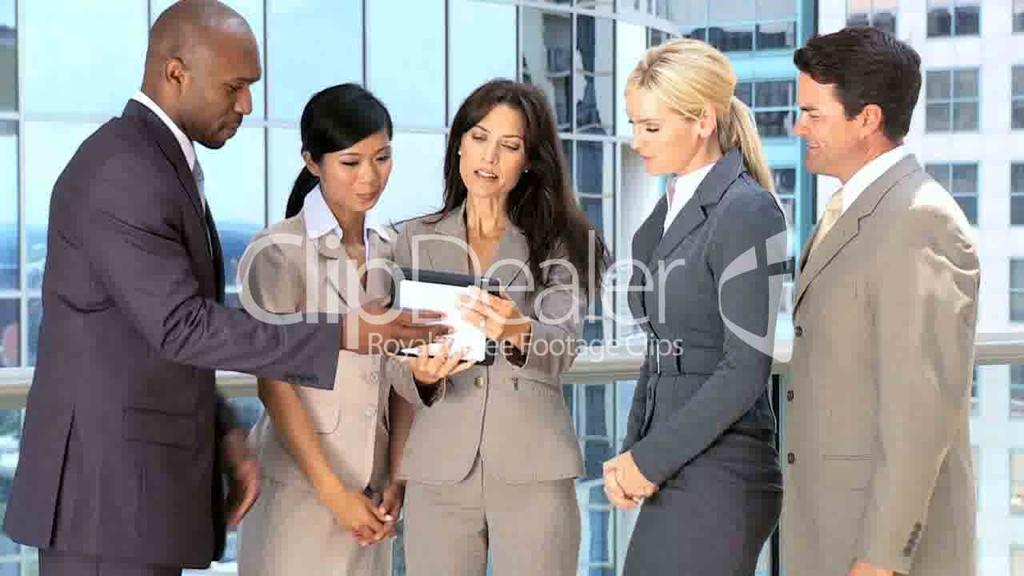face: (192, 20, 262, 150), (318, 118, 390, 212), (796, 70, 860, 170), (460, 102, 526, 198), (628, 90, 698, 176)
